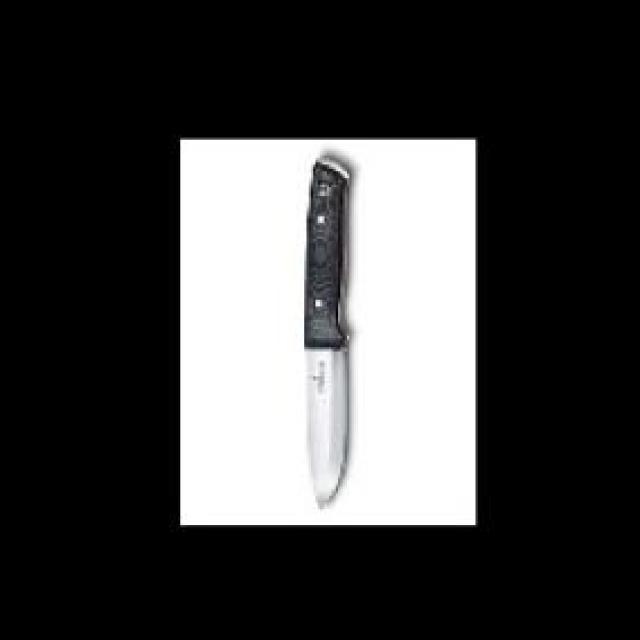knife: (302, 151, 363, 514)
